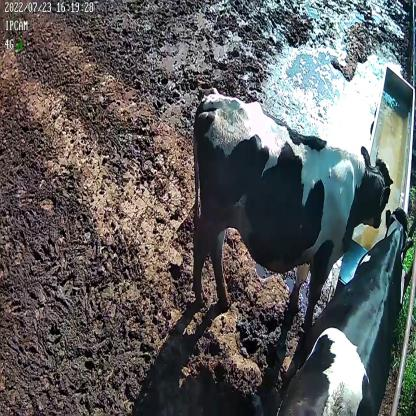cow: (191, 90, 396, 329), (277, 206, 415, 416)
